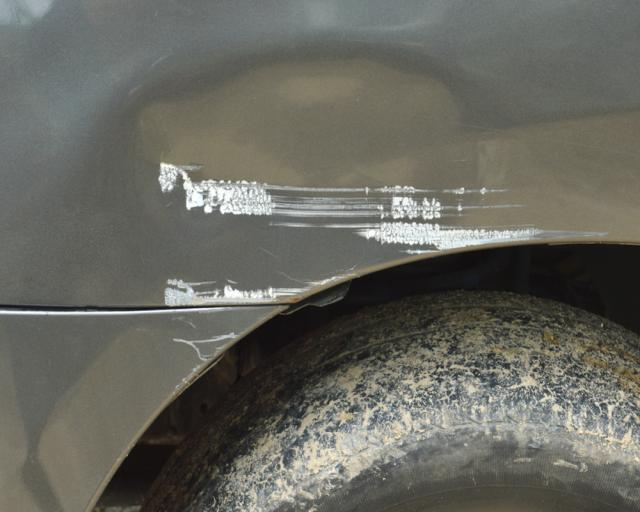dent: (129, 48, 508, 185)
scratch: (154, 159, 609, 258), (164, 263, 368, 307), (173, 331, 244, 363)
